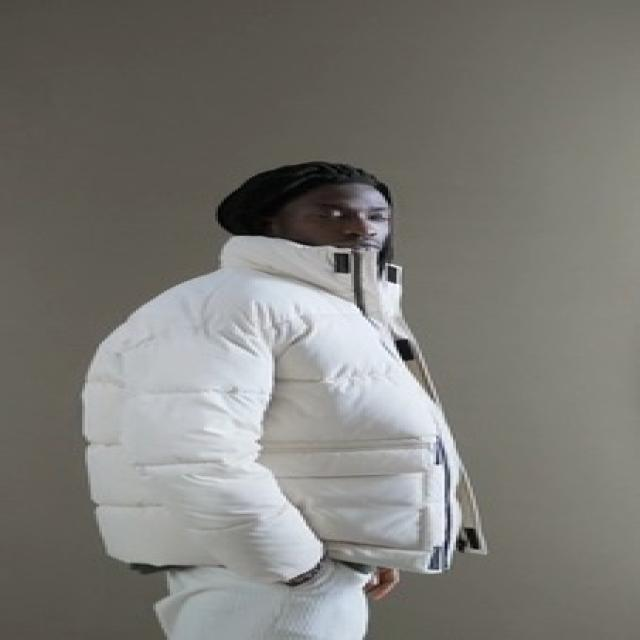Jacket_Wearer: (41, 232, 515, 564)
Person: (64, 139, 494, 640)
